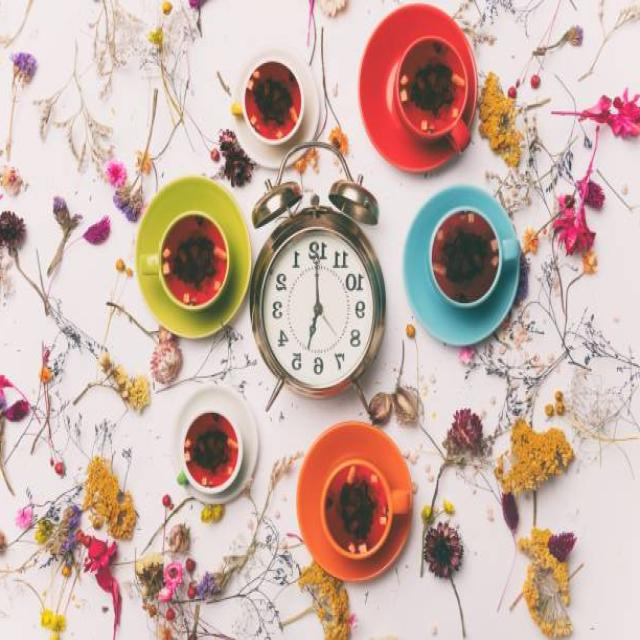Red_cup: (394, 37, 469, 153)
